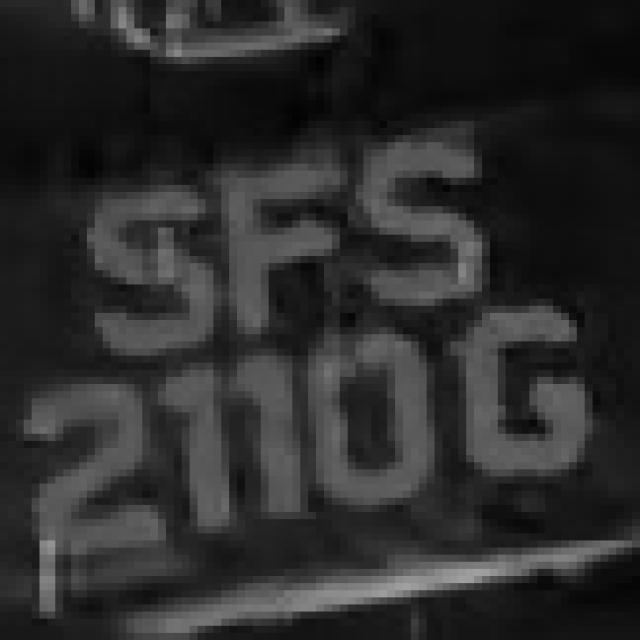0: (308, 284, 443, 548)
1: (158, 334, 237, 562), (245, 334, 316, 562)
2: (16, 356, 182, 604)
F: (166, 150, 371, 356)
G: (450, 313, 600, 540)
S: (372, 135, 514, 327), (79, 156, 205, 370)
